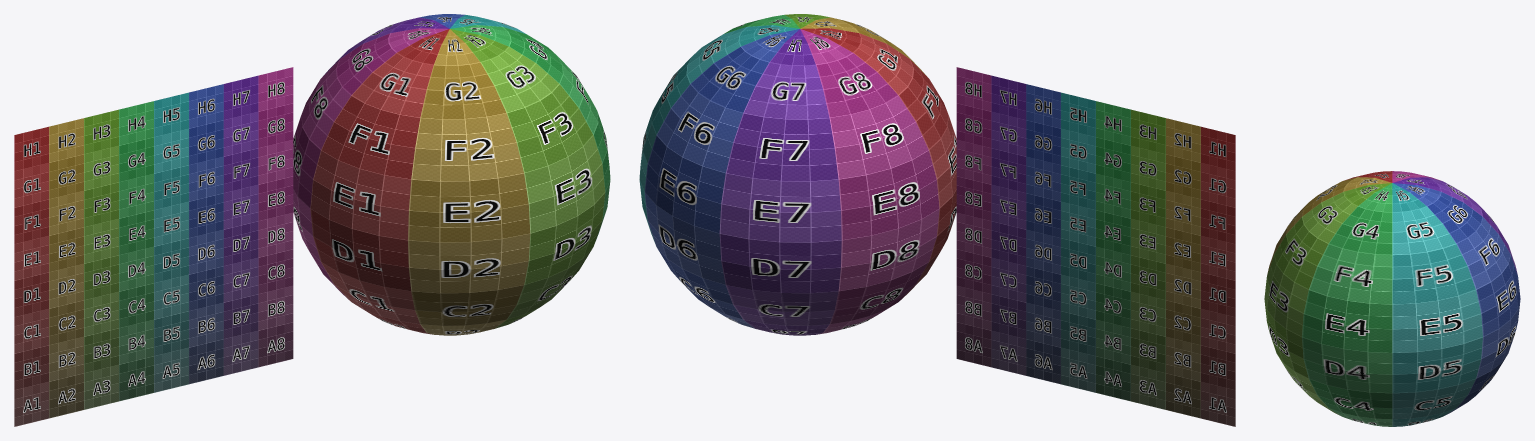
The model's file is gltfTest.glb.
3 views of the same model, side by side, from view 1: azimuth 30°, elevation 25°; view 2: azimuth 150°, elevation 25°; view 3: azimuth 270°, elevation 25° (orthographic). The views are drawn at different scales.
Visible parts, largest first — view 1: Plane, Sphere; view 2: Plane, Sphere; view 3: Sphere.
Boxes of the visible parts, <box> form: Plane: <box>14,67,293,426</box>; Sphere: <box>293,14,610,335</box>; Plane: <box>956,67,1235,426</box>; Sphere: <box>639,14,956,335</box>; Sphere: <box>1264,171,1520,426</box>.
Size of the model in its own units: 4.12 by 2 by 2.
1 material, 1 textured.
